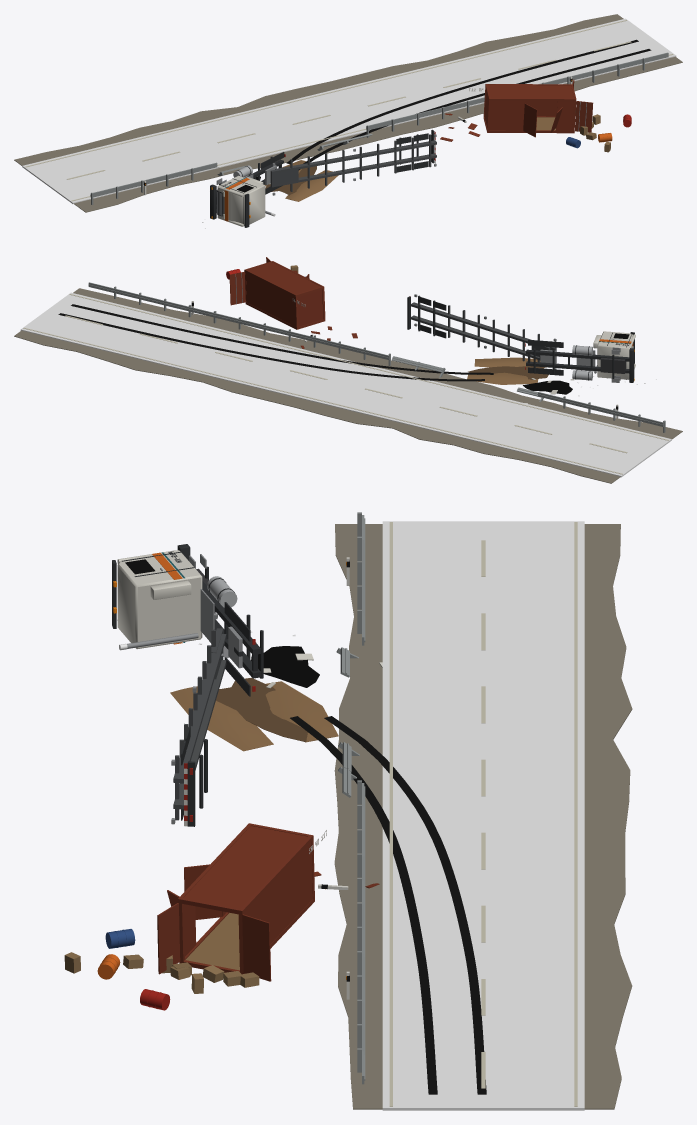
The model's file is container-spill.glb.
The picture shows the model from 3 angles, top to bottom: view 1: azimuth 30°, elevation 25°; view 2: azimuth 150°, elevation 25°; view 3: azimuth 270°, elevation 25°; orthographic projection. The views are drawn at different scales.
Visible parts, largest first — view 1: C0_0_lod0, C0_-1_lod0, C-1_-1_lod0; view 2: C0_0_lod0, C-1_-1_lod0, C0_-1_lod0; view 3: C0_0_lod0, C0_-1_lod0, C-1_-1_lod0.
Boxes of the visible parts, x1,y1,x2,y2 form: C0_0_lod0: (14, 14, 682, 212); C0_-1_lod0: (366, 52, 668, 167); C-1_-1_lod0: (90, 125, 436, 228); C0_0_lod0: (14, 288, 682, 483); C-1_-1_lod0: (388, 296, 665, 432); C0_-1_lod0: (88, 257, 420, 359); C0_0_lod0: (170, 521, 632, 1110); C0_-1_lod0: (64, 755, 379, 1084); C-1_-1_lod0: (112, 512, 382, 820).
Size of what is drawn, in the model's own units: 48.14 by 2.98 by 19.69.
